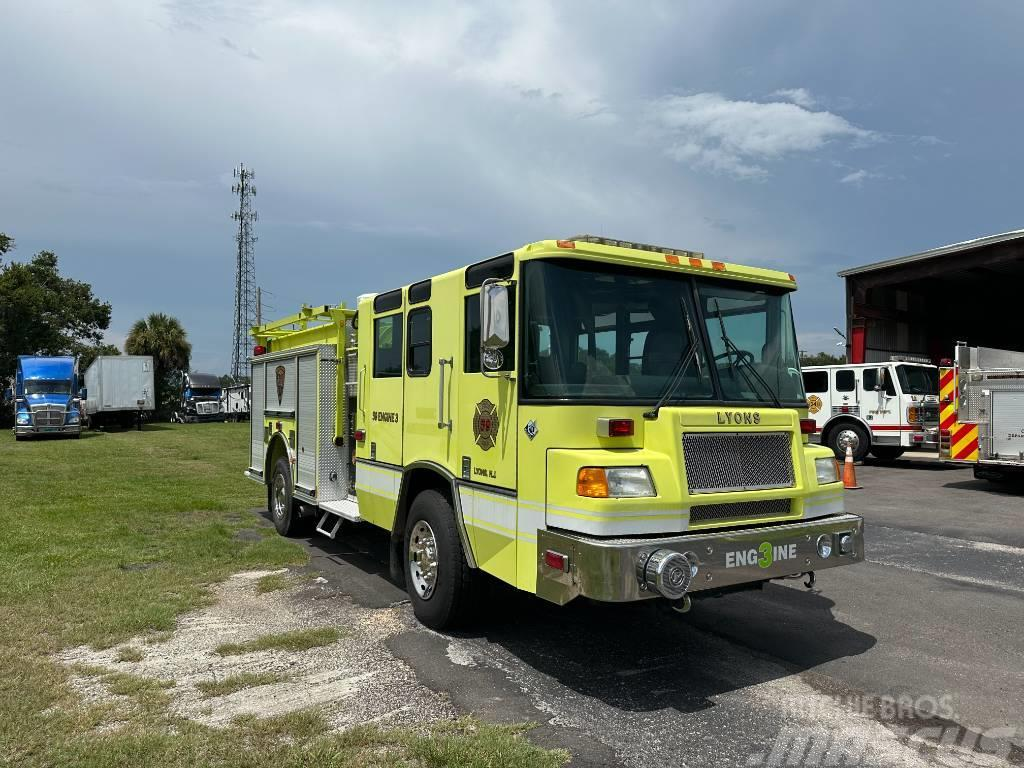firetruck_off: (250, 234, 870, 633)
